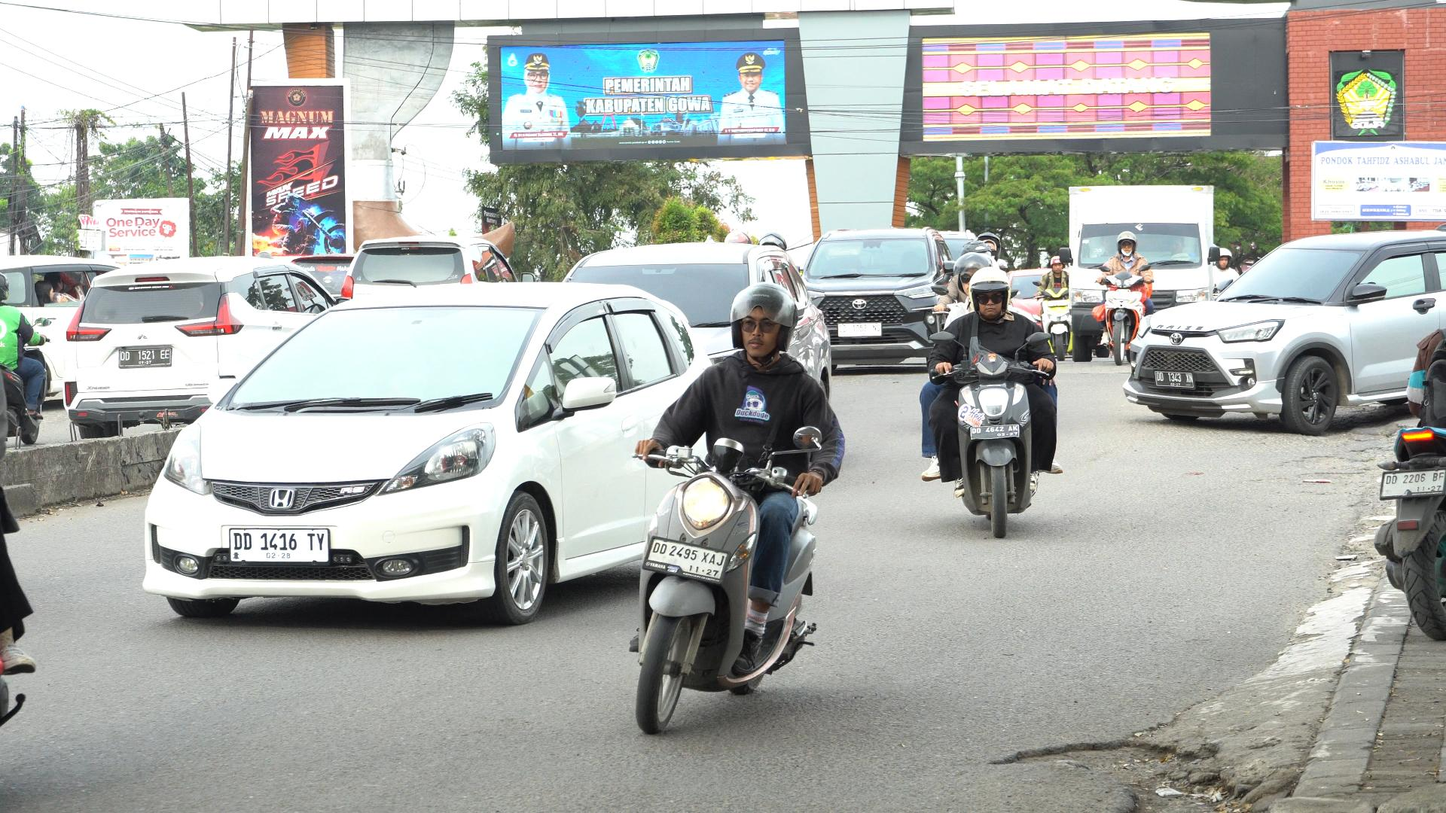number-plate: (642, 529, 730, 588), (967, 423, 1021, 445)
